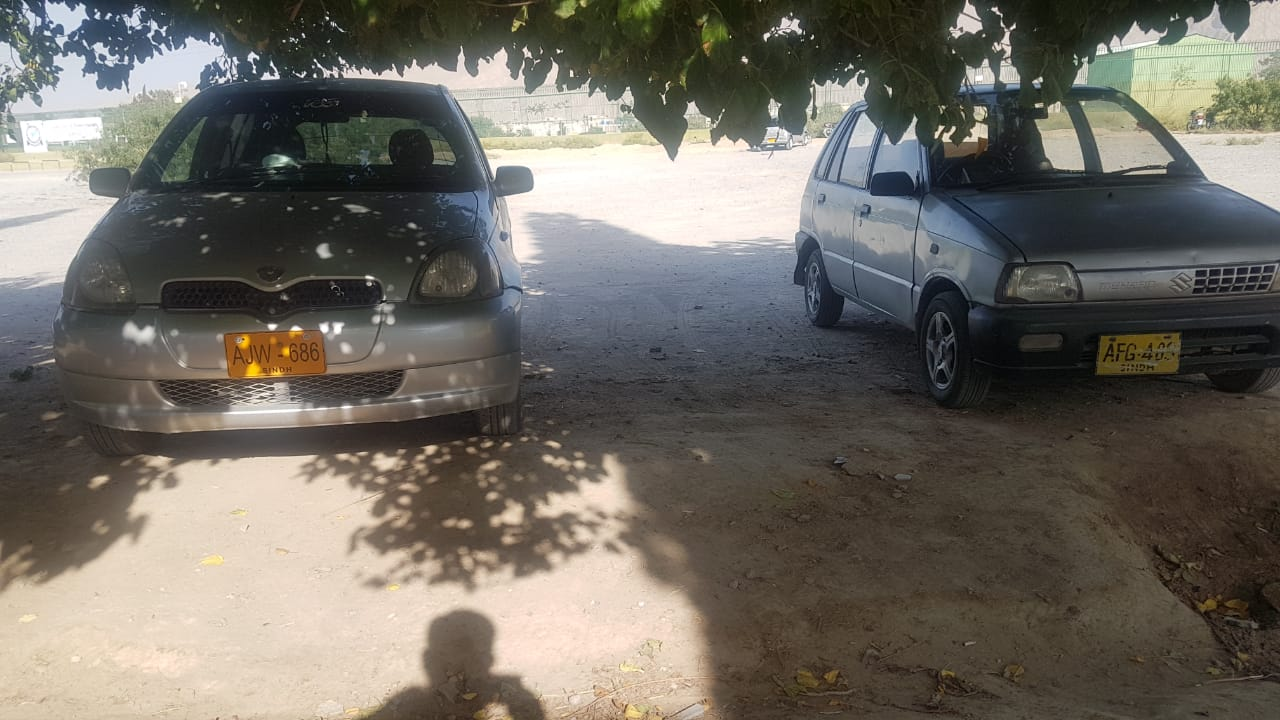license plate: (224, 333, 327, 378), (1099, 335, 1180, 375)
